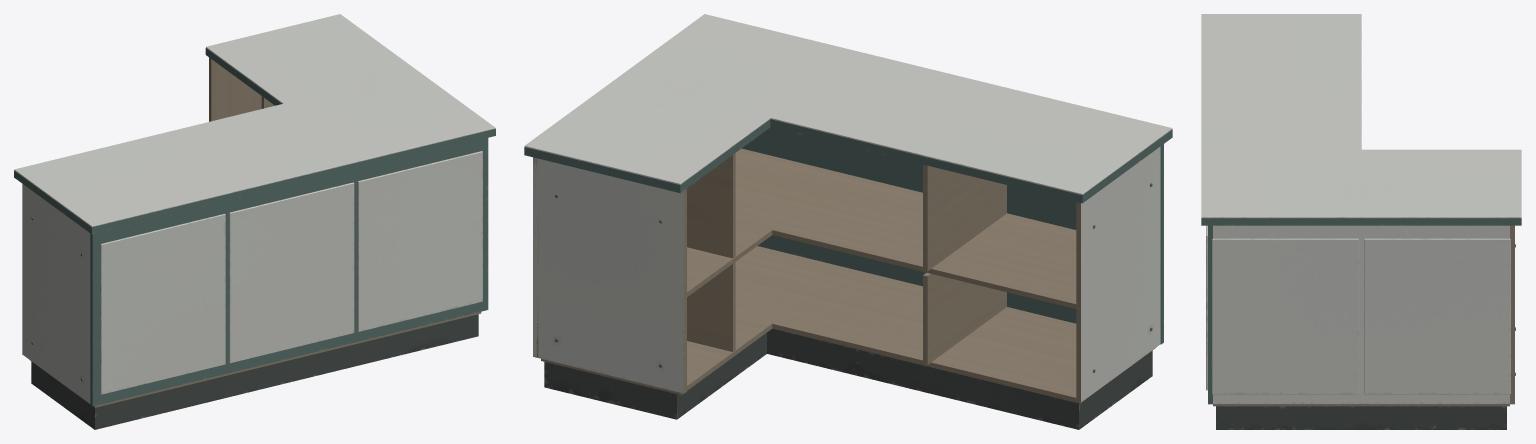
Rendered from shop_counter_corner.glb.
The picture shows the model from 3 angles, left to right: view 1: azimuth 30°, elevation 25°; view 2: azimuth 150°, elevation 25°; view 3: azimuth 270°, elevation 25°; orthographic projection. The views are drawn at different scales.
Visible parts, largest first — view 1: ShopCounterCorner; view 2: ShopCounterCorner; view 3: ShopCounterCorner.
Part boxes in pixels (x1,y1,x2,y2): ShopCounterCorner: (14, 14, 495, 429); ShopCounterCorner: (524, 14, 1172, 429); ShopCounterCorner: (1201, 14, 1521, 429).
Size of what is drawn, in the model's own units: 1.8 by 0.9 by 1.2.
1 material, 1 textured.
